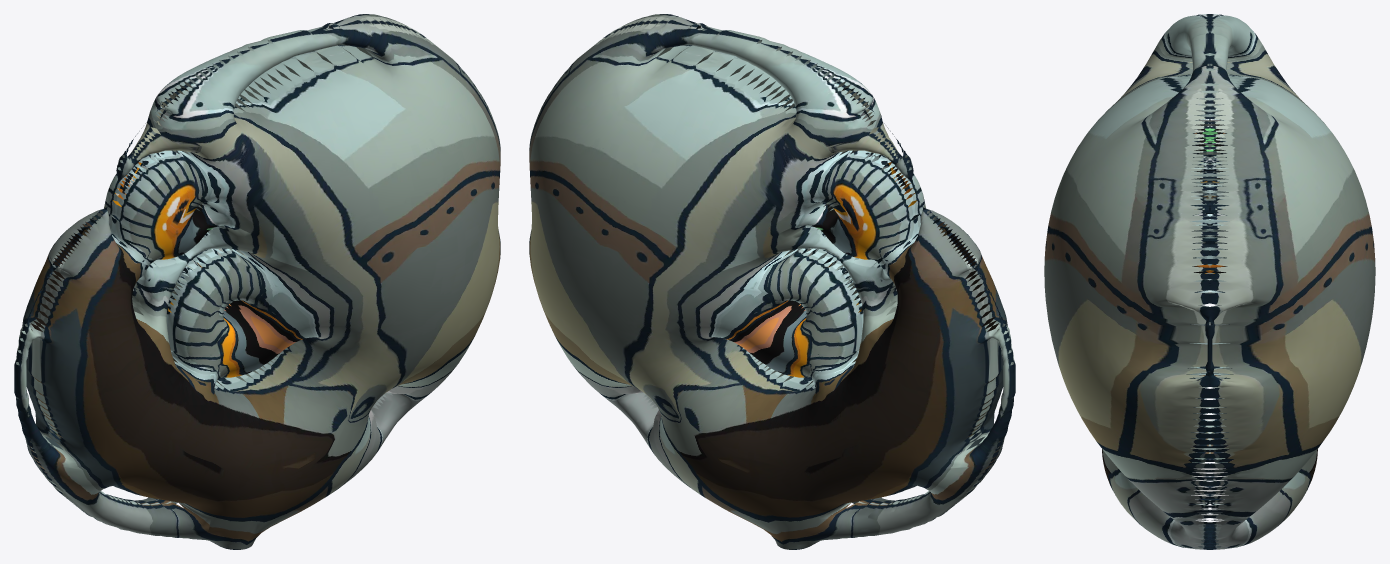
The model's file is twin_optic.glb.
The picture shows the model from 3 angles, left to right: view 1: azimuth 30°, elevation 25°; view 2: azimuth 150°, elevation 25°; view 3: azimuth 270°, elevation 25°; orthographic projection. The views are drawn at different scales.
Parts seen in each view (by area): view 1: twin_optic; view 2: twin_optic; view 3: twin_optic.
Part boxes in pixels (<box>): twin_optic: <box>14,14,500,549</box>; twin_optic: <box>529,14,1015,549</box>; twin_optic: <box>1044,14,1375,549</box>.
Bounding box in the file's own units: 0.989 × 0.9443 × 0.5514.
Materials: 1 (1 with a texture image).
